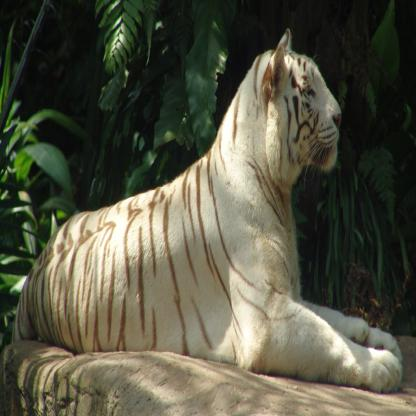Tiger: (9, 28, 407, 390)
